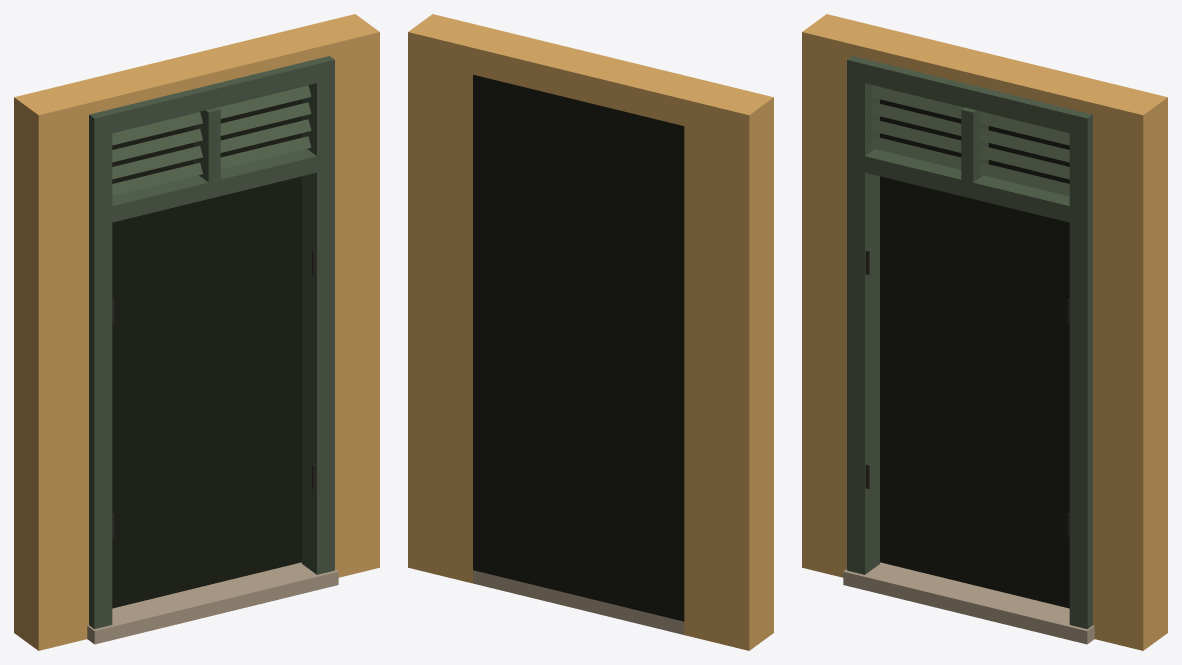
The model's file is SM_Wall_WoodDoorBay_01.fbx.
3 views of the same model, side by side, from view 1: azimuth 30°, elevation 25°; view 2: azimuth 150°, elevation 25°; view 3: azimuth 330°, elevation 25° (orthographic).
Parts seen in each view (by area): view 1: SM_Wall_WoodDoorBay_01; view 2: SM_Wall_WoodDoorBay_01; view 3: SM_Wall_WoodDoorBay_01.
Part boxes in pixels (x1,y1,x2,y2): SM_Wall_WoodDoorBay_01: [14, 14, 379, 650]; SM_Wall_WoodDoorBay_01: [408, 14, 773, 650]; SM_Wall_WoodDoorBay_01: [802, 14, 1167, 650].
Bounding box in the file's own units: 2 × 3 × 0.325.
1 material, 1 textured.
